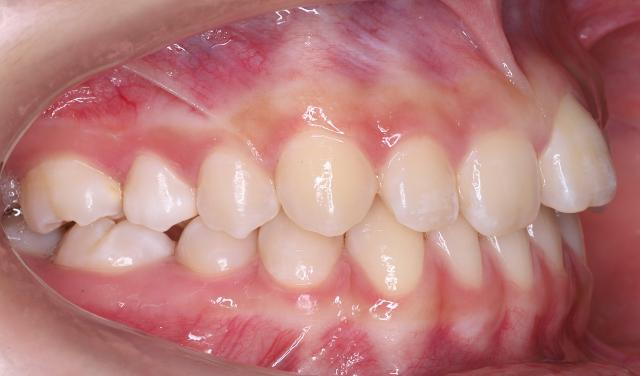canine class III 1/4: (258, 119, 424, 301)
molar class III 1/2: (17, 158, 174, 296)
